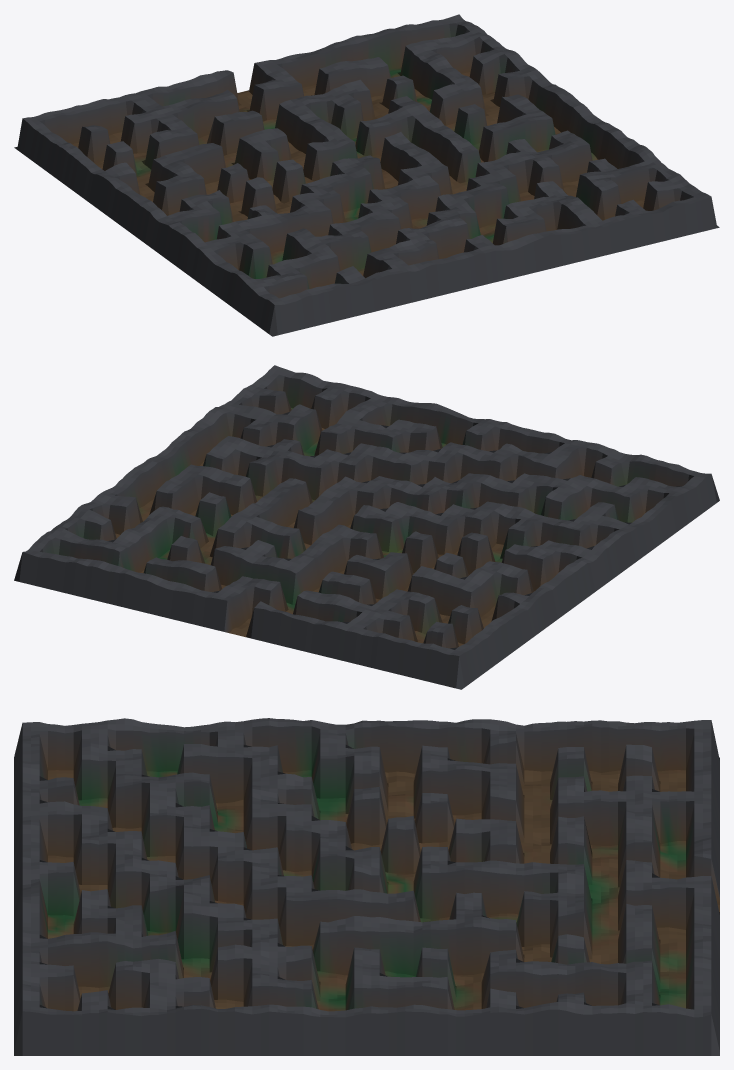
The model's file is map_21_21_4.fbx.
3 renders of one model, top to bottom at view 1: azimuth 30°, elevation 25°; view 2: azimuth 150°, elevation 25°; view 3: azimuth 270°, elevation 25°, orthographic. The views are drawn at different scales.
Visible parts, largest first — view 1: Plane; view 2: Plane; view 3: Plane.
Part boxes in pixels (left/top/right/bottom): Plane: left=14, top=14, right=719, bottom=336; Plane: left=14, top=365, right=719, bottom=689; Plane: left=14, top=718, right=719, bottom=1055.
Size of the model in its own units: 100 by 7.53 by 100.
